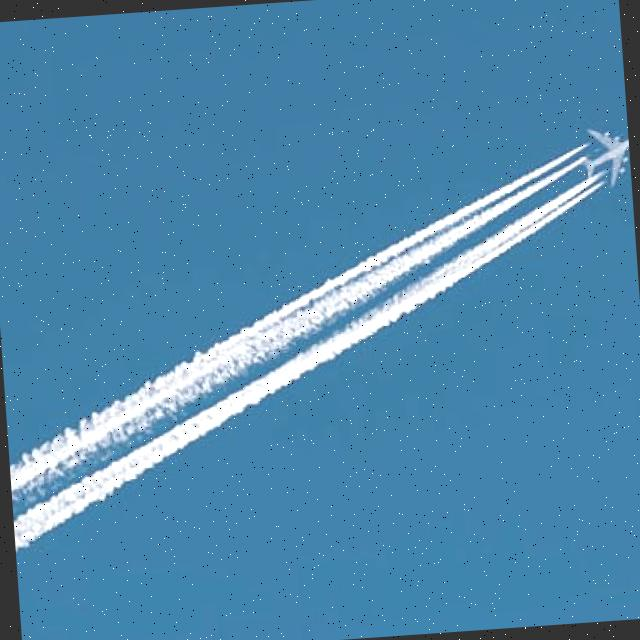Ct: (1, 115, 640, 542)
